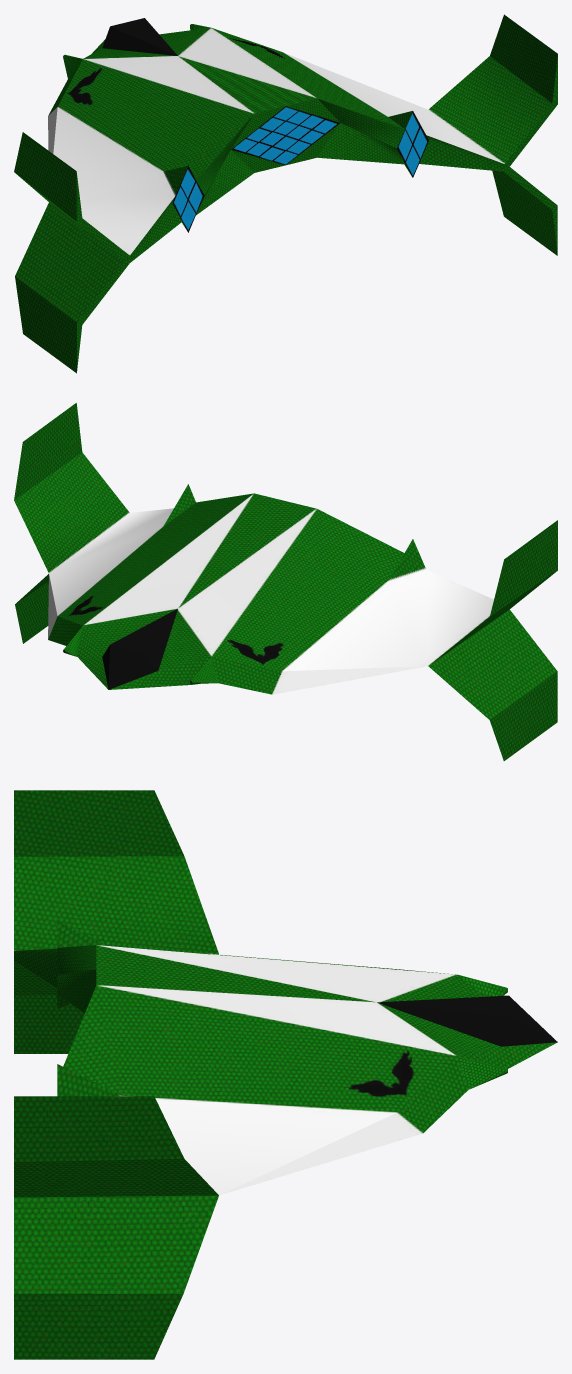
The model's file is spaceship4.fbx.
The picture shows the model from 3 angles, top to bottom: view 1: azimuth 30°, elevation 25°; view 2: azimuth 150°, elevation 25°; view 3: azimuth 270°, elevation 25°; orthographic projection. The views are drawn at different scales.
Parts seen in each view (by area): view 1: polySurface4; view 2: polySurface4; view 3: polySurface4.
Part boxes in pixels (<box>): polySurface4: <box>14,14,557,373</box>; polySurface4: <box>14,403,557,760</box>; polySurface4: <box>14,790,557,1359</box>.
Size of the model in its own units: 29.85 by 11.99 by 22.42.
